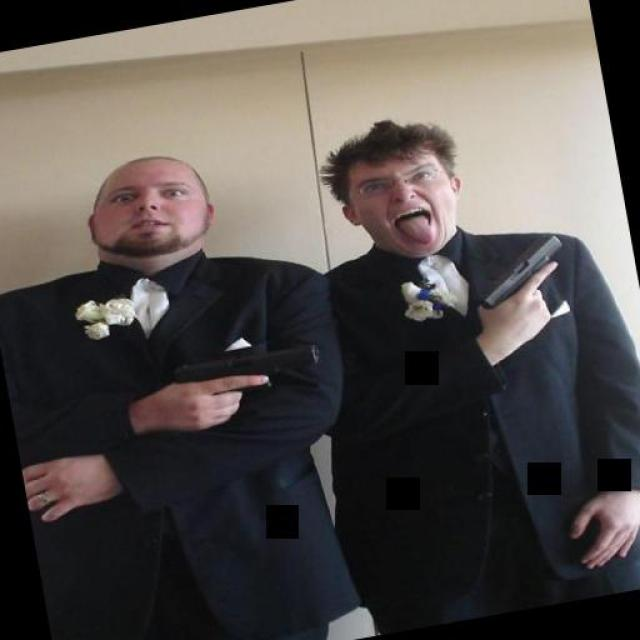gun: (165, 332, 331, 417), (452, 226, 578, 326)
